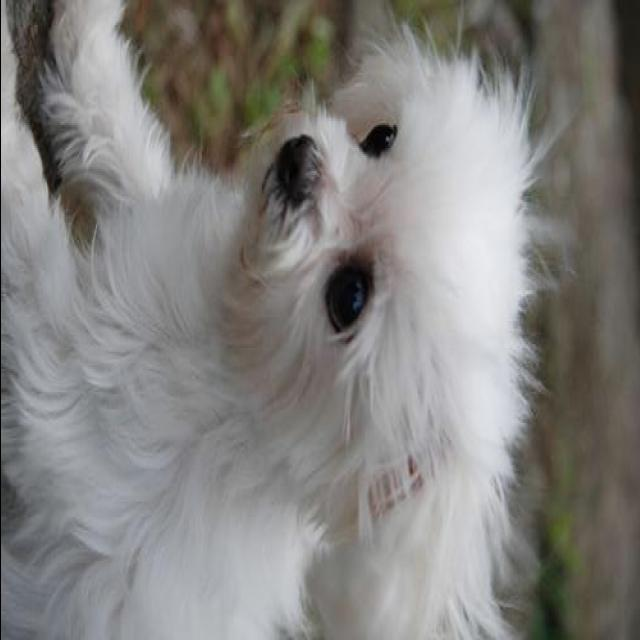maltese_dog: (2, 4, 582, 640)
